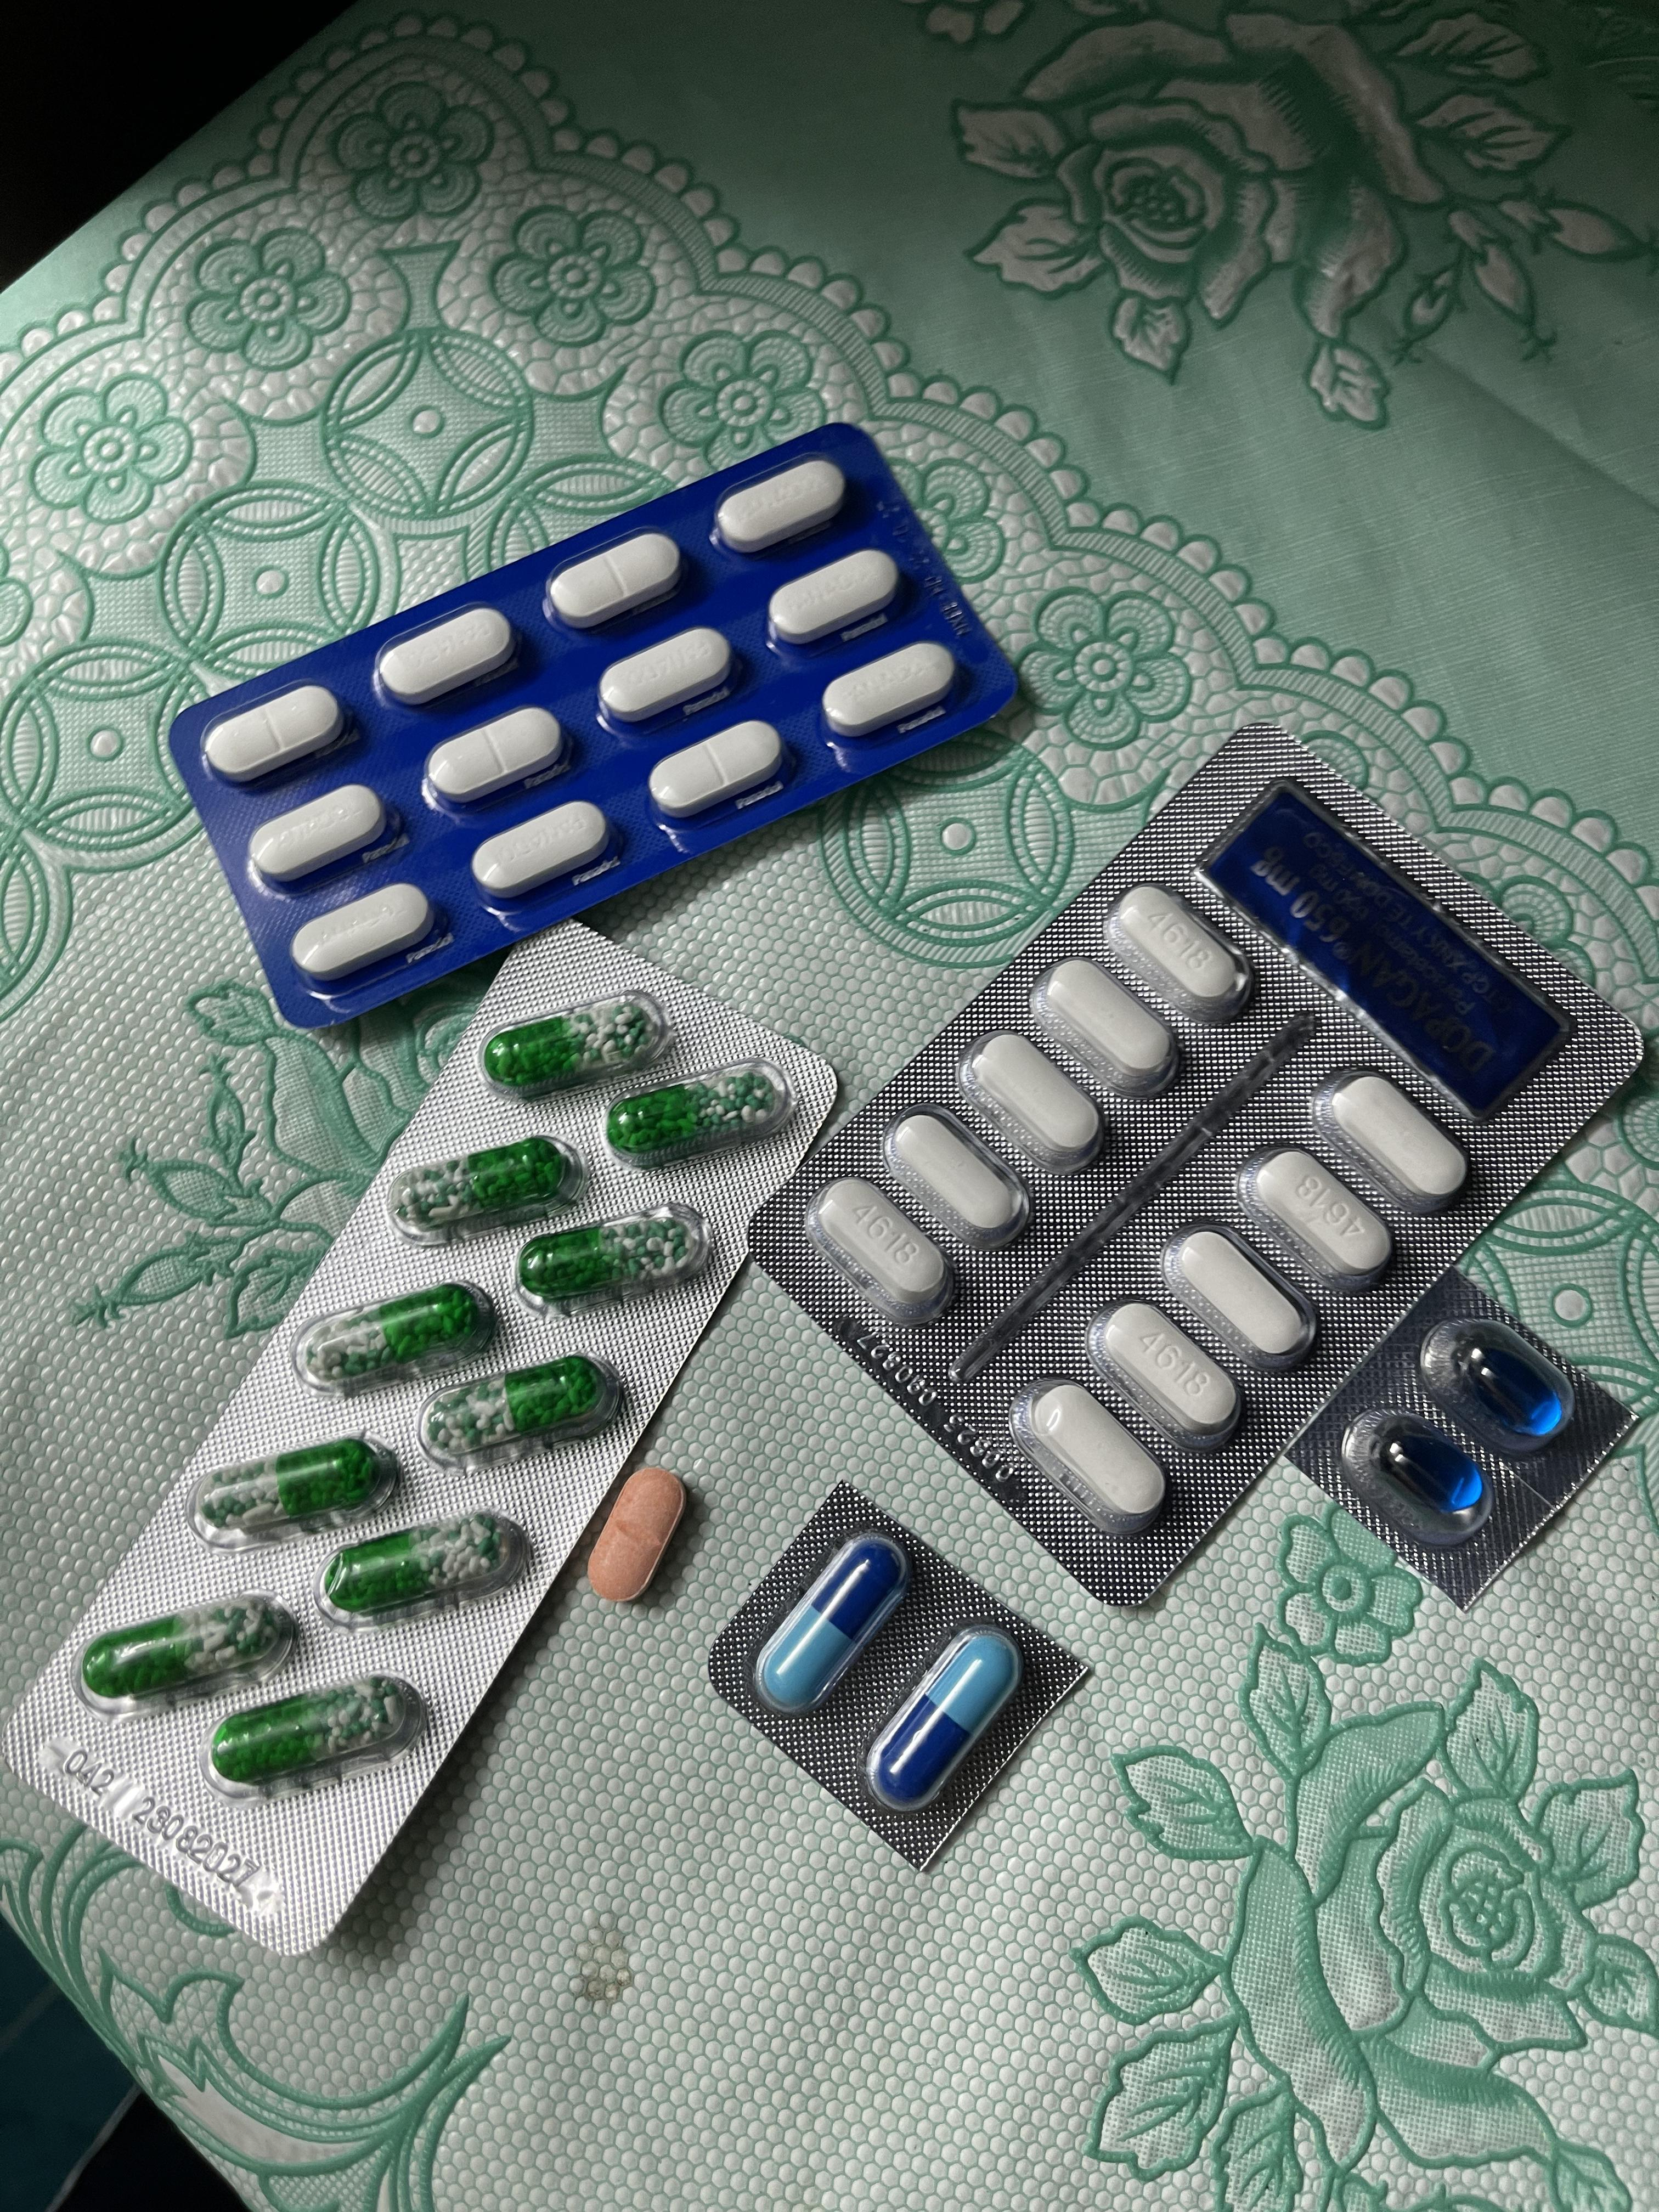Lincomyxin_500mg: (1464, 1339, 1563, 1432), (1380, 1428, 1483, 1515)
Loratadine_10mg: (589, 1467, 688, 1602)
Paracetamol_350mg: (247, 782, 390, 885), (204, 681, 347, 784), (648, 719, 786, 822), (289, 880, 434, 977), (376, 606, 516, 707), (423, 709, 565, 808), (469, 803, 612, 900), (599, 627, 735, 726), (823, 641, 958, 740), (549, 531, 687, 629), (713, 455, 847, 554), (769, 549, 901, 648)
Paracetamol_500mg: (1087, 1299, 1243, 1456), (1006, 1383, 1157, 1538), (1316, 1071, 1478, 1216), (1239, 1148, 1398, 1292), (1161, 1224, 1314, 1372), (882, 1108, 1033, 1252), (805, 1177, 950, 1327), (962, 1031, 1115, 1172), (1035, 958, 1183, 1101), (1110, 881, 1256, 1019)
Paracetamol_650mg: (204, 1676, 425, 1801), (77, 1595, 295, 1714), (615, 1057, 798, 1163), (326, 1512, 512, 1609), (197, 1442, 387, 1533), (303, 1287, 481, 1379), (432, 1360, 606, 1453), (521, 1211, 697, 1301), (397, 1141, 572, 1226), (486, 1007, 652, 1090)
pill: (871, 1634, 1016, 1810), (765, 1545, 903, 1707)
